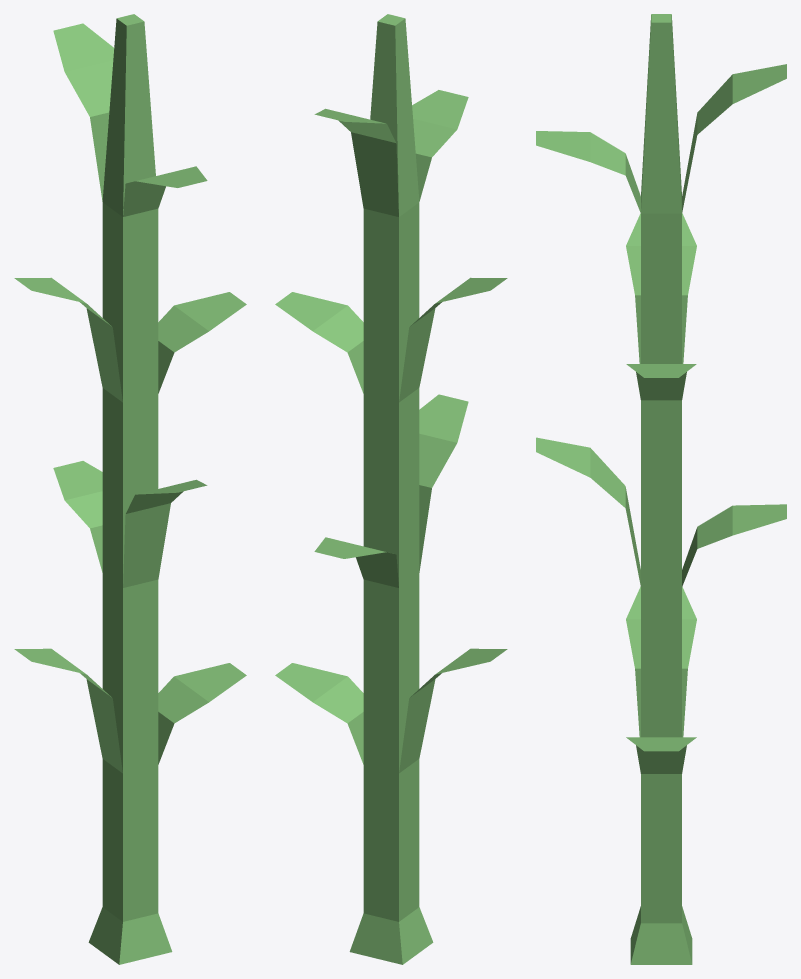
File: nature_corn.glb
3 renders of one model, left to right at view 1: azimuth 30°, elevation 25°; view 2: azimuth 150°, elevation 25°; view 3: azimuth 270°, elevation 25°, orthographic.
Parts seen in each view (by area): view 1: crops_cornStageC; view 2: crops_cornStageC; view 3: crops_cornStageC.
Boxes of the visible parts, box(x1,y1,x2,y2) form: crops_cornStageC: box(14, 14, 246, 964); crops_cornStageC: box(275, 14, 507, 964); crops_cornStageC: box(536, 14, 786, 964).
Size of the model in its own units: 0.5171 by 2.12 by 0.5171.
